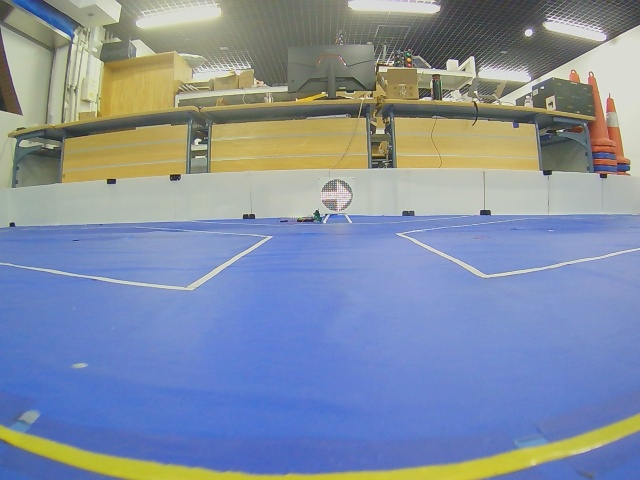right_yellow: (321, 179, 354, 212)
